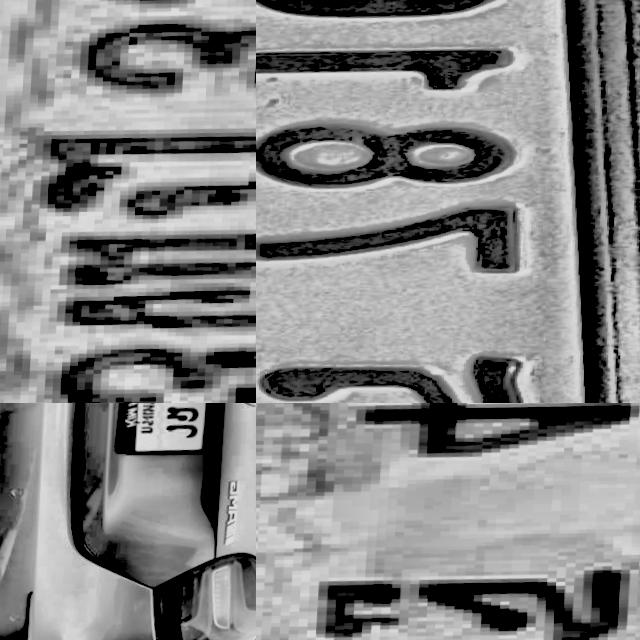license-plate: (256, 0, 640, 403), (0, 0, 256, 403), (256, 403, 640, 640), (114, 403, 223, 465)
